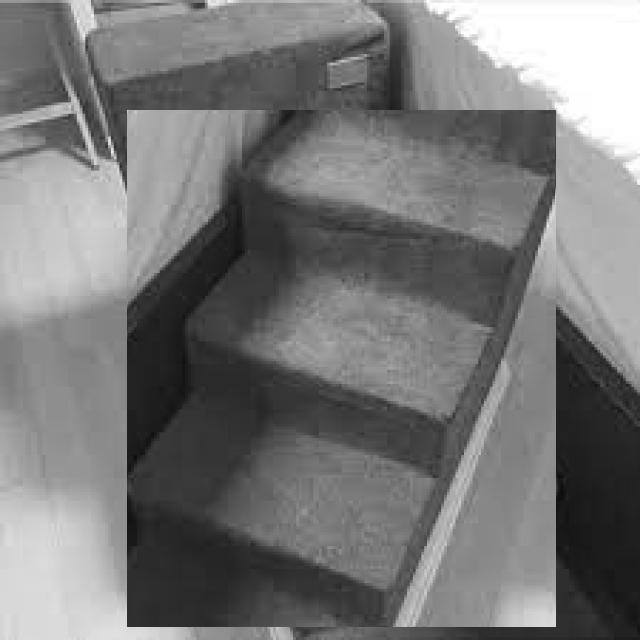stair: (85, 0, 554, 633), (127, 110, 556, 627)
